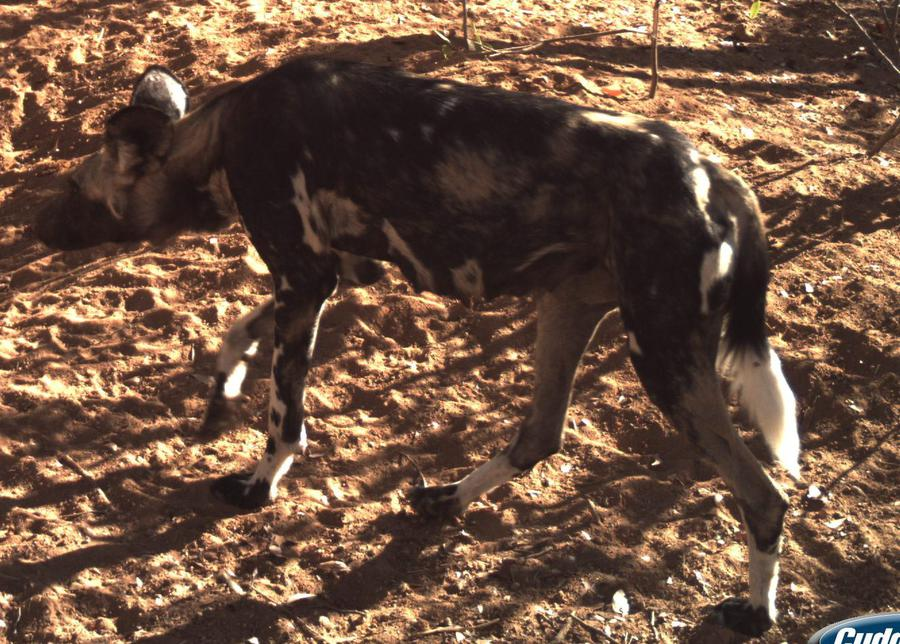wilddog: (72, 34, 801, 430)
